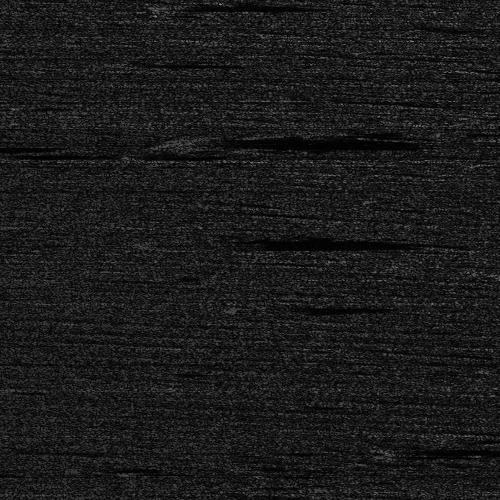rock: (93, 148, 176, 161), (168, 134, 199, 149), (379, 446, 432, 453), (97, 60, 150, 65), (477, 267, 500, 278), (217, 305, 258, 310), (0, 151, 37, 156), (157, 3, 188, 6)
shadow: (184, 134, 369, 149), (135, 148, 212, 161), (238, 305, 374, 310), (406, 446, 500, 453), (200, 241, 414, 244), (124, 60, 226, 65), (11, 151, 105, 156), (173, 3, 305, 6), (0, 144, 39, 149)
